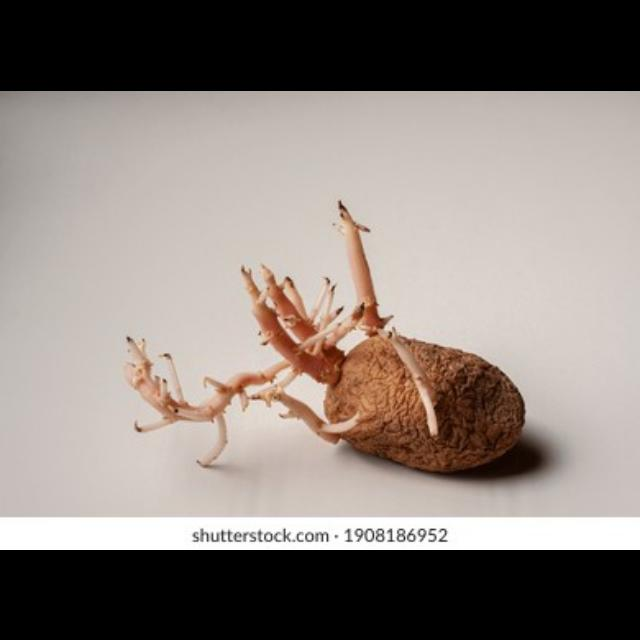Sprouted potato: (111, 216, 534, 492)
